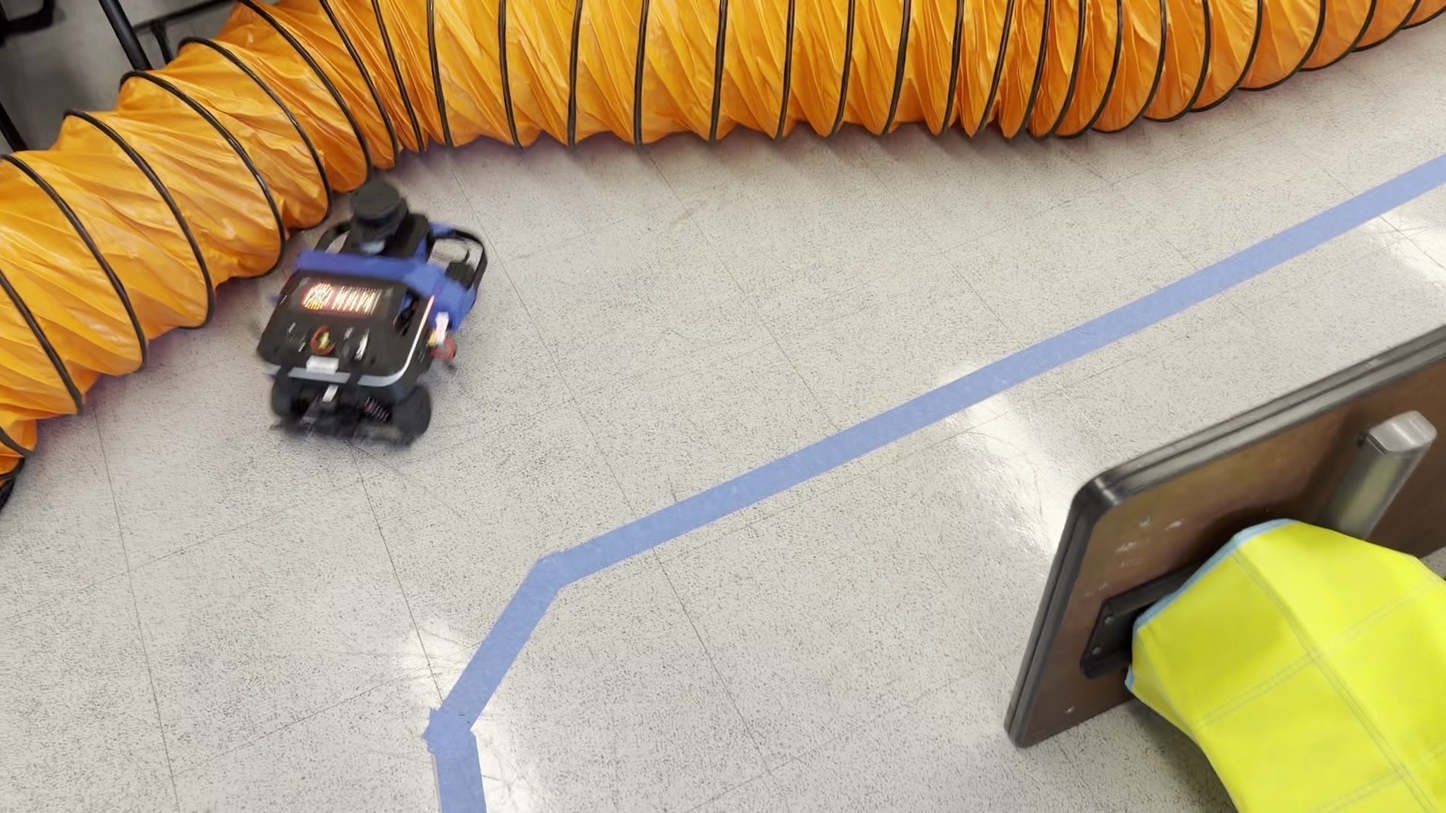racecar: (255, 184, 487, 448)
